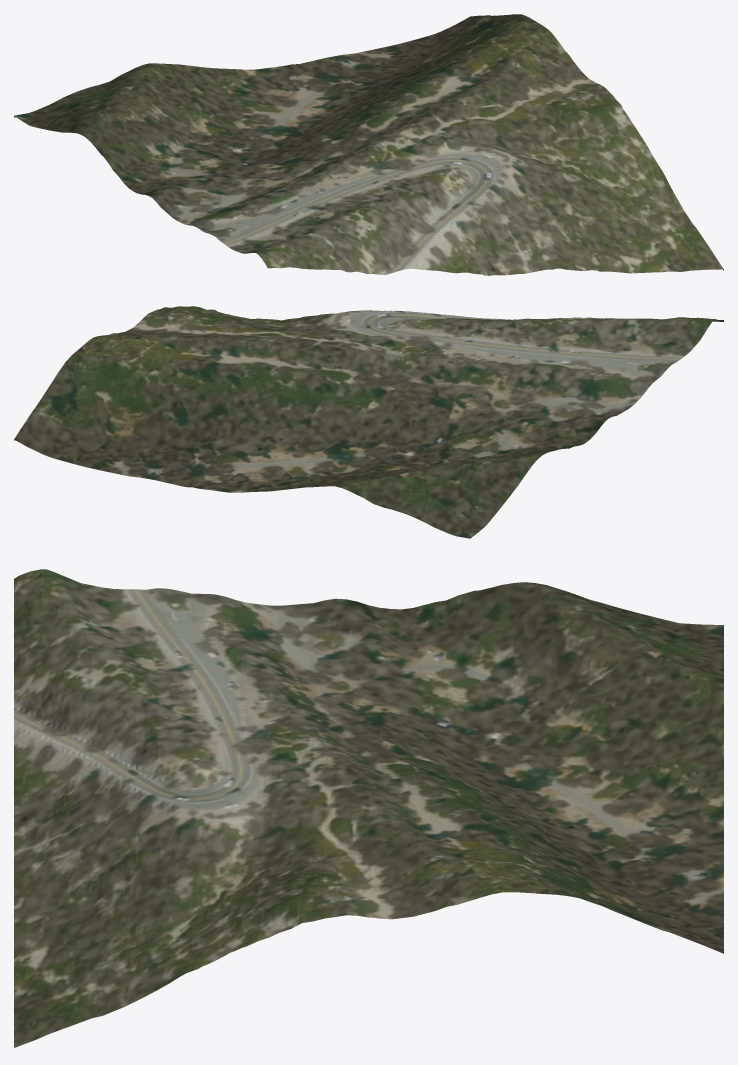
The picture shows the model from 3 angles, top to bottom: view 1: azimuth 30°, elevation 25°; view 2: azimuth 150°, elevation 25°; view 3: azimuth 270°, elevation 25°; orthographic projection. The views are drawn at different scales.
Size of the model in its own units: 250 by 63.52 by 241.
1 material, 1 textured.
